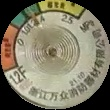green: (8, 2, 41, 30)
needle: (27, 8, 44, 33)
red: (2, 22, 21, 74)
yellow: (40, 2, 89, 19)
